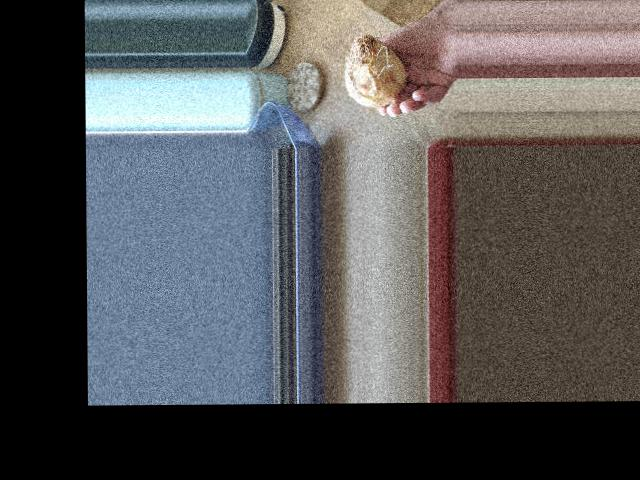onion: (337, 39, 407, 109)
